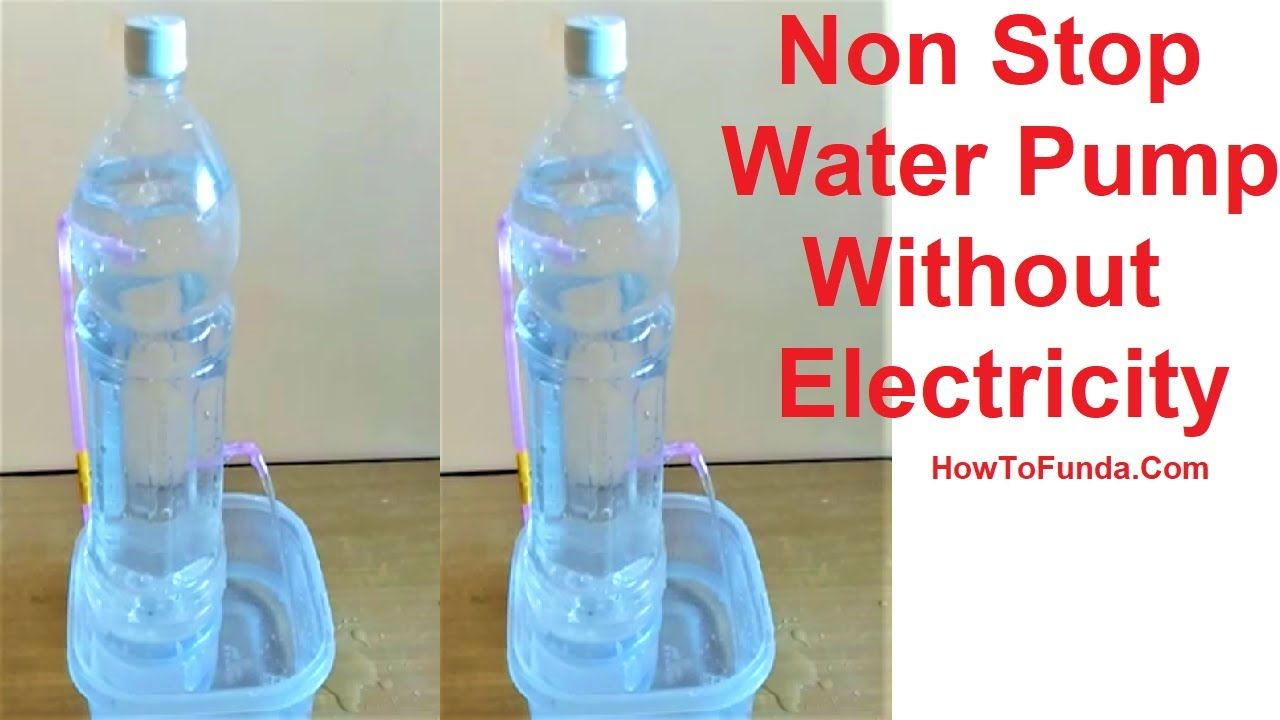plastic_bottle: (18, 1, 419, 720), (470, 9, 848, 720)
